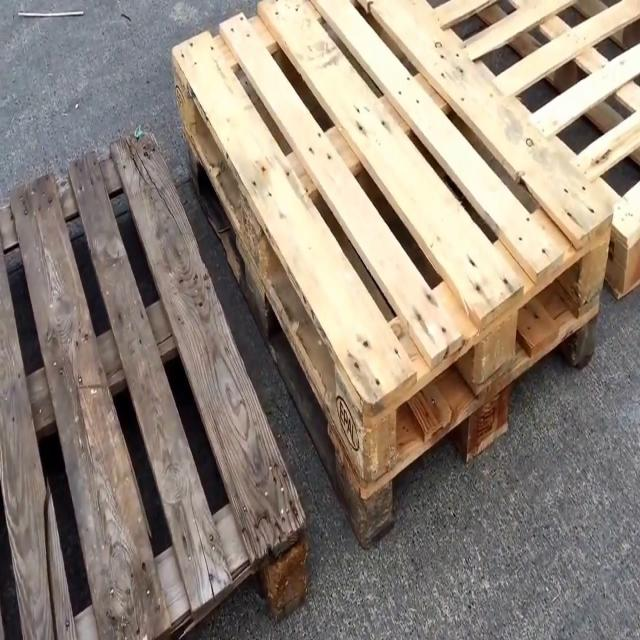Palette: (163, 0, 615, 561), (0, 118, 312, 640), (428, 0, 640, 308)
